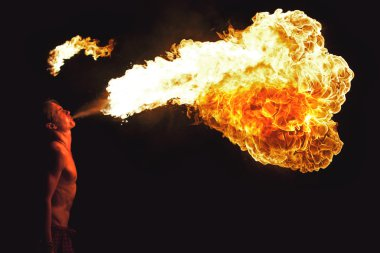fire: (110, 14, 357, 167), (44, 29, 96, 78)
